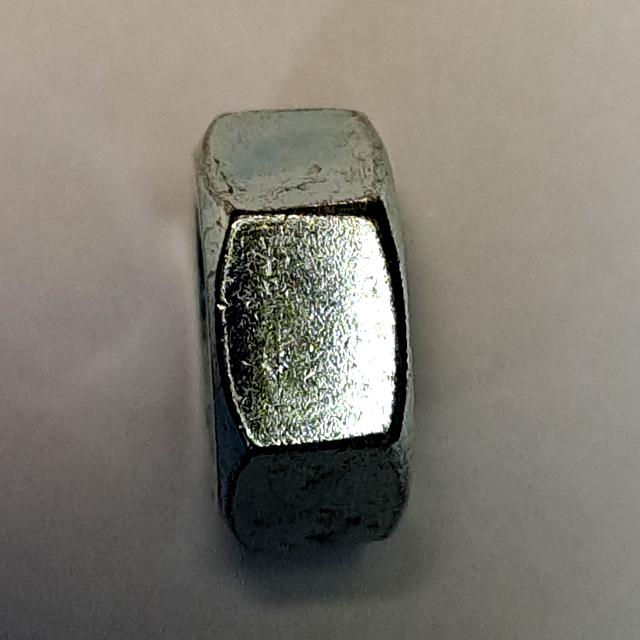Side_Excellent: (162, 85, 450, 573)
